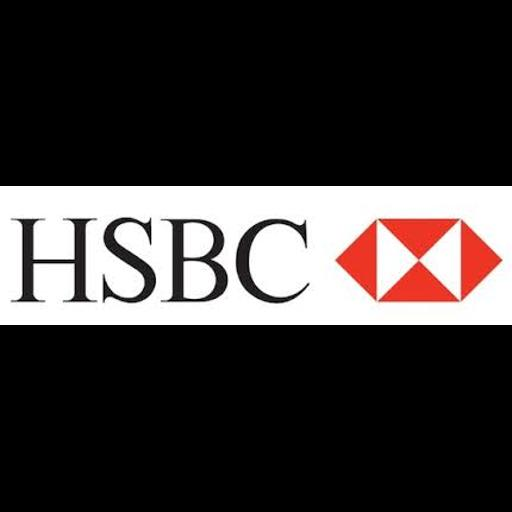HSBC Bank: (0, 186, 512, 325)
